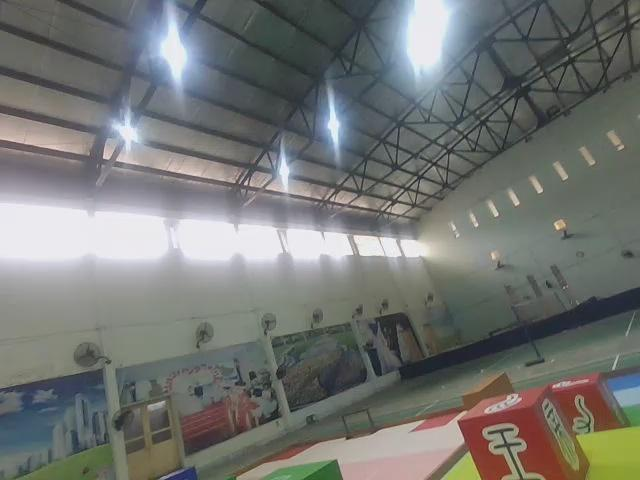R2 Fake: (456, 387, 593, 480)
R2 Real: (551, 370, 630, 439)
